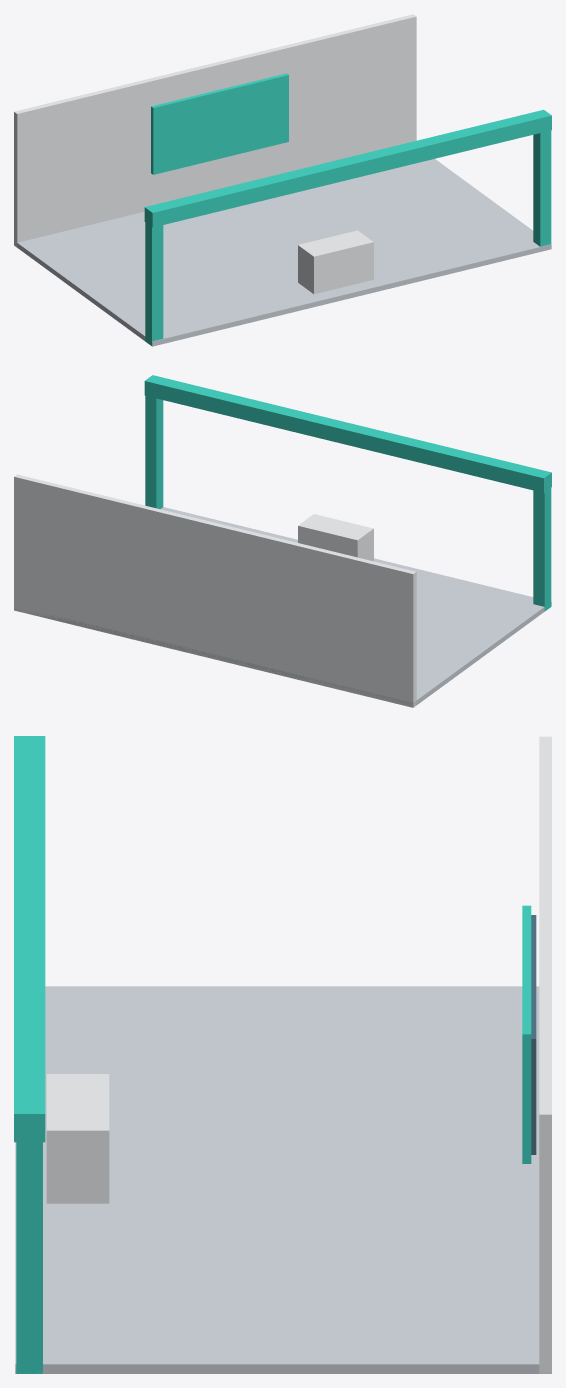
3 views of the same model, one above another, from view 1: azimuth 30°, elevation 25°; view 2: azimuth 150°, elevation 25°; view 3: azimuth 270°, elevation 25° (orthographic). The views are drawn at different scales.
Visible parts, largest first — view 1: Exhibition Booth Concept; view 2: Exhibition Booth Concept; view 3: Exhibition Booth Concept.
Boxes of the visible parts, x1,y1,x2,y2 form: Exhibition Booth Concept: (14, 14, 551, 346); Exhibition Booth Concept: (14, 375, 551, 707); Exhibition Booth Concept: (14, 736, 551, 1373).
Bounding box in the file's own units: 10 × 3.2 × 6.02.
